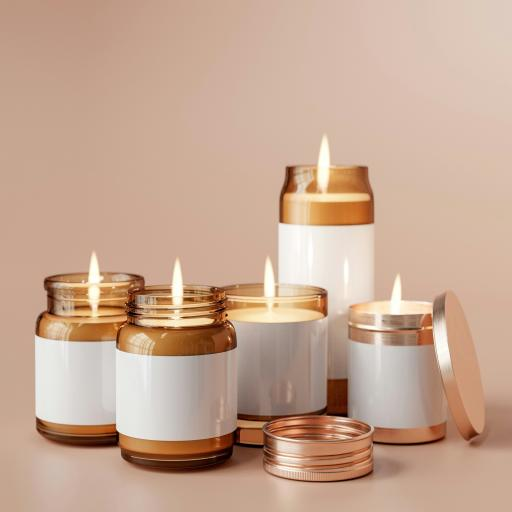candlelight: (85, 251, 103, 318), (316, 133, 331, 195), (170, 255, 185, 307), (263, 254, 277, 302), (390, 274, 402, 316)
